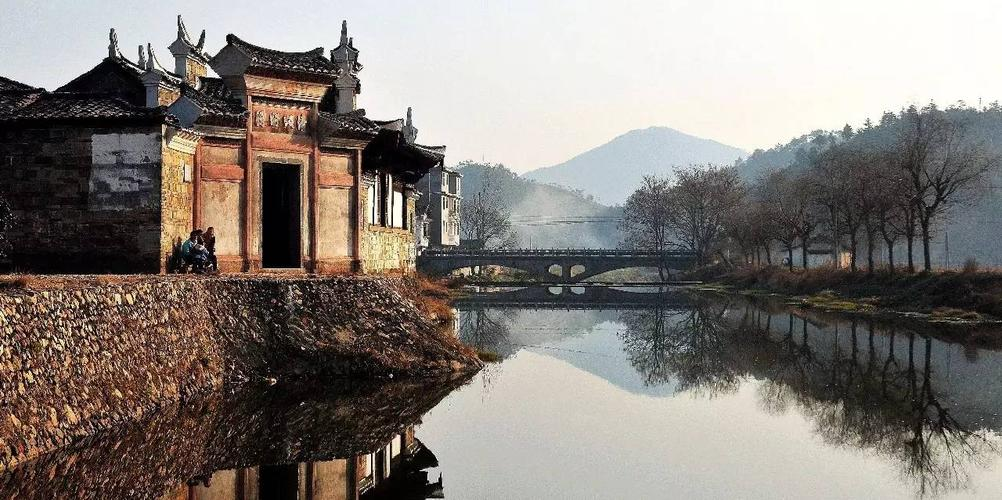buildings: (24, 47, 453, 302)
mountain: (0, 284, 465, 478)
